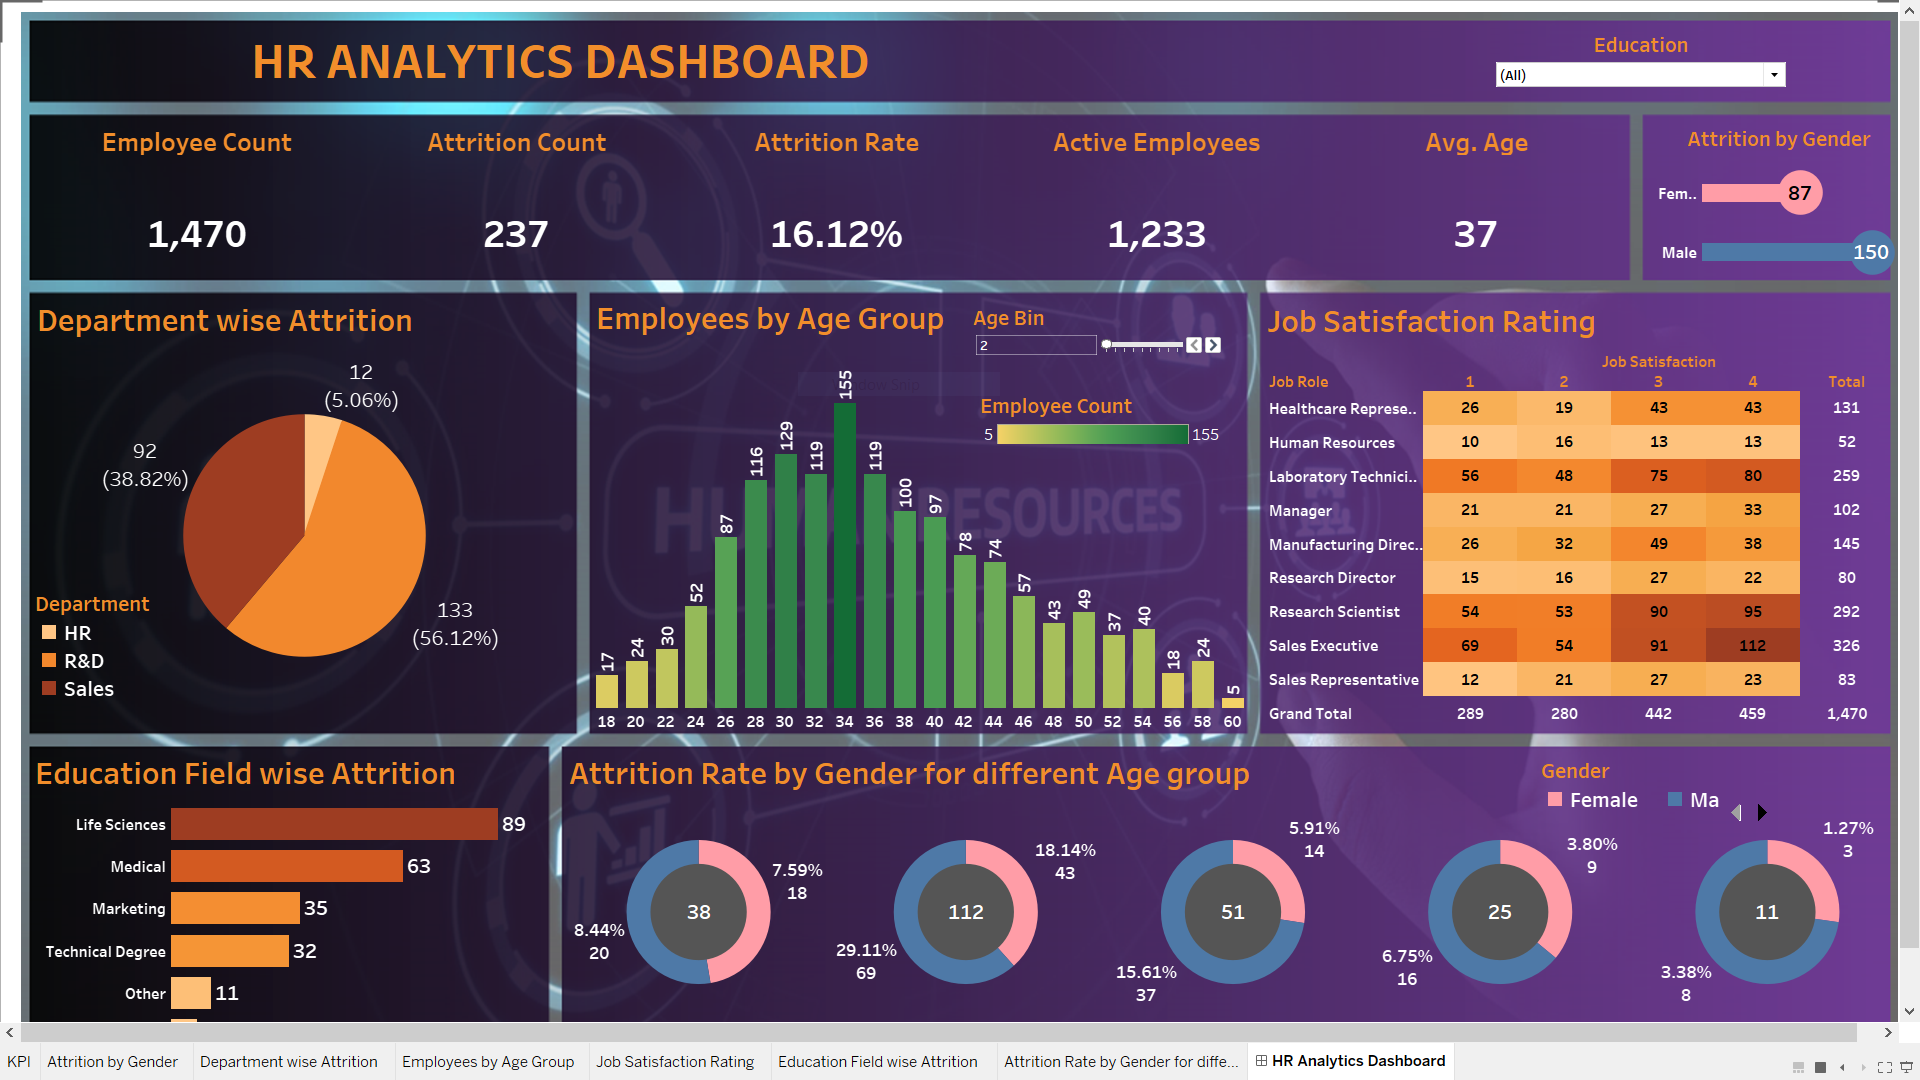

Layout of this report page (visuals, bound fields, positions):
{"tool":"tableau","page":{"name":"HR Analytics Dashboard","canvas":[1000,1000],"units":"permille","ordinal":0},"visuals":[{"type":"image","param":"Image/HR background Final .png","box":[7.9,10.2,984.2,979.6]},{"type":"text","box":[20.8,152.9,547.5,53.5]},{"type":"filter","title":"Department wise Attrition","param":"[federated.0p1xn9i1f4o148131c42q0ve2ah3].[none:Education:nk]","box":[827.7,155.4,154.5,164.3]},{"type":"worksheet","title":"KPI","mark":"Automatic","box":[16.8,212.7,831.7,110.8]},{"type":"worksheet","title":"Attrition by Gender","mark":"Automatic","rows":["Gender"],"cols":["Calculation_161848150412316672","Calculation_161848150412316672"],"box":[855.6,224.1,129.9,107.3]},{"type":"worksheet","title":"Department wise Attrition","mark":"Pie","box":[17.8,332.5,283.2,295.5]},{"type":"worksheet","title":"Employees by Age Group","mark":"Automatic","rows":["Employee Count"],"cols":["Age (bin)"],"box":[304.9,332.5,343.6,295.5]},{"type":"parameter","param":"[Parameters].[Parameter 1]","box":[516.8,333.8,130.7,63.7]},{"type":"worksheet","title":"Job Satisfaction Rating","mark":"Square","rows":["Job Role"],"cols":["Job Satisfaction"],"box":[656.4,333.8,328.7,294.3]},{"type":"legend","title":"Employees by Age Group","param":"[federated.0p1xn9i1f4o148131c42q0ve2ah3].[sum:Employee Count:qk]","box":[512.9,401.3,126.7,49.7]},{"type":"legend","title":"Department wise Attrition","param":"[federated.0p1xn9i1f4o148131c42q0ve2ah3].[none:Department:nk]","box":[16.8,519.8,83.2,108.3]},{"type":"worksheet","title":"Education Field wise Attrition","mark":"Automatic","rows":["Education Field"],"cols":["Calculation_161848150412316672"],"box":[13.9,633.1,272.3,212.7]},{"type":"legend","title":"Attrition Rate by Gender for different Age group","param":"[federated.0p1xn9i1f4o148131c42q0ve2ah3].[none:Gender:nk]","box":[668.3,636.9,312.9,40.8]},{"type":"worksheet","title":"Attrition Rate by Gender for different Age group","mark":"Pie","rows":["Calculation_161848150482776068","Calculation_161848150482776068"],"cols":["CF_age band"],"box":[296,639.5,687.1,208.9]}]}

Visuals, with their boxes on the dashboard's canvas, which has no fixed pixel size, in thousandths of its width and height (x1, y1, x2, y2). These are canvas units, not pixel positions in the 1920x1080 screenshot, which may show the page scaled, cropped or inside an application window:
image: 8/10/992/990
text: 21/153/568/206
"Department wise Attrition" filter: 828/155/982/320
"KPI" worksheet: 17/213/848/324
"Attrition by Gender" worksheet: 856/224/986/331
"Department wise Attrition" worksheet (Pie marks): 18/332/301/628
"Employees by Age Group" worksheet: 305/332/648/628
parameter: 517/334/648/398
"Job Satisfaction Rating" worksheet (Square marks): 656/334/985/628
"Employees by Age Group" legend: 513/401/640/451
"Department wise Attrition" legend: 17/520/100/628
"Education Field wise Attrition" worksheet: 14/633/286/846
"Attrition Rate by Gender for different Age group" legend: 668/637/981/678
"Attrition Rate by Gender for different Age group" worksheet (Pie marks): 296/640/983/848
